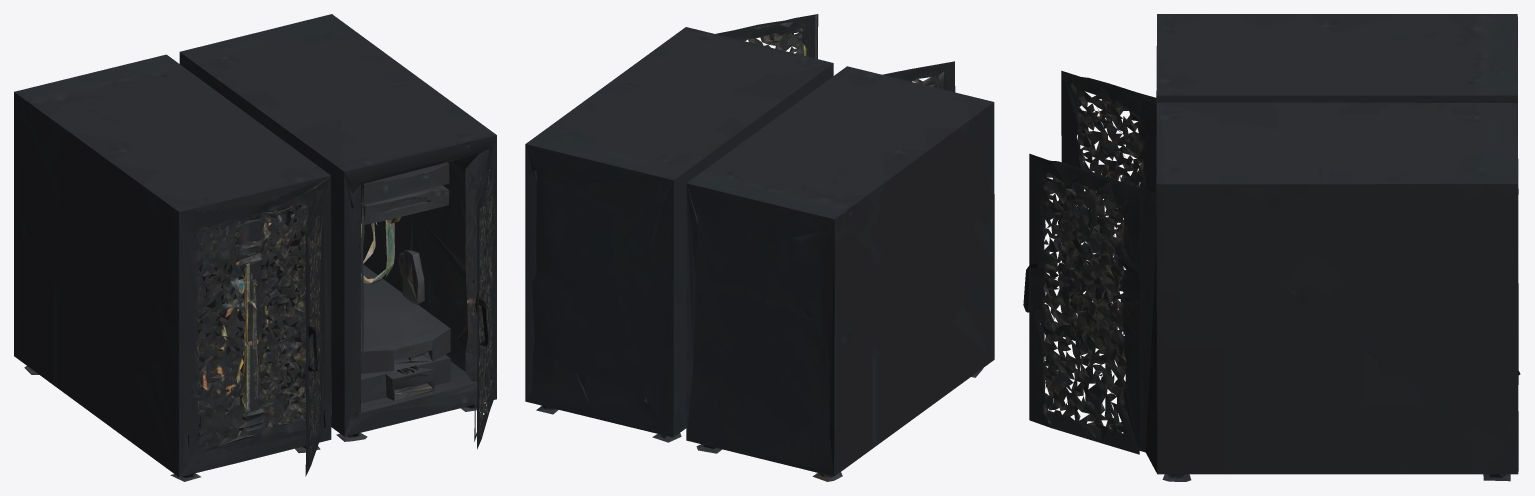
Rendered from segRack.glb.
3 views of the same model, side by side, from view 1: azimuth 30°, elevation 25°; view 2: azimuth 150°, elevation 25°; view 3: azimuth 270°, elevation 25° (orthographic). The views are drawn at different scales.
Size of the model in its own units: 1.54 by 1.27 by 1.9.
Materials: 1 (1 with a texture image).
